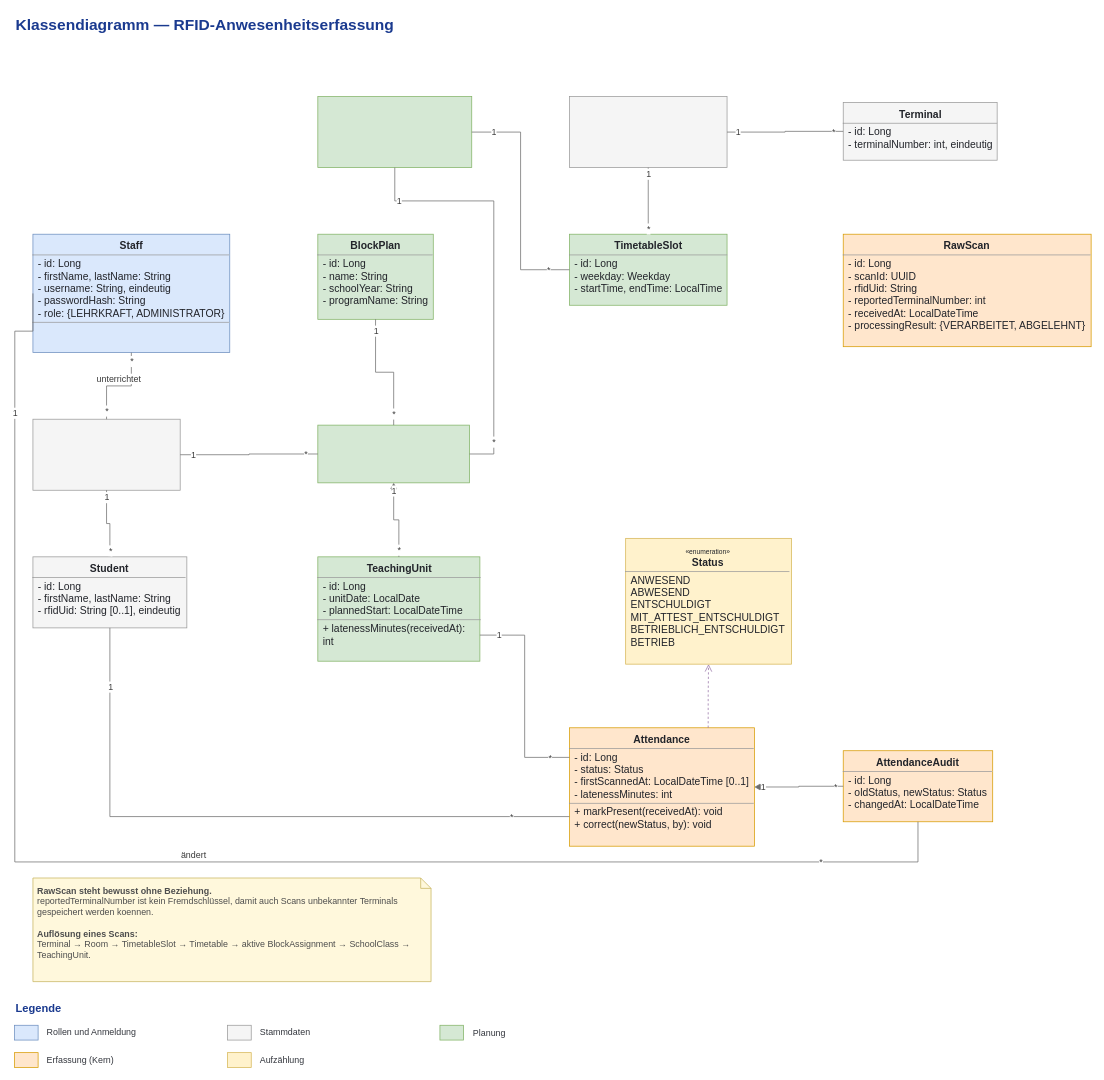
Image size: 1104x1080. Some labels were removed from this diagram. Each missing label, with the centre of its shape:
"BlockAssignment - id: Long - startsOn, endsOn: LocalDate" goes at (393,453).
"Room - id: Long - roomNumber: String, eindeutig - description: String [0..1]" goes at (648,132).
"SchoolClass - id: Long - classCode: String, eindeutig - displayName: String" goes at (106,454).
"Timetable - id: Long - name: String - validFrom, validTo: LocalDate" goes at (394,132).
